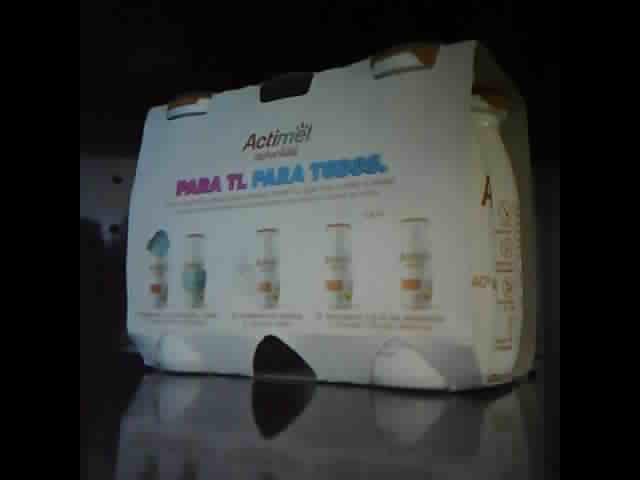actimel: (125, 38, 541, 393)
